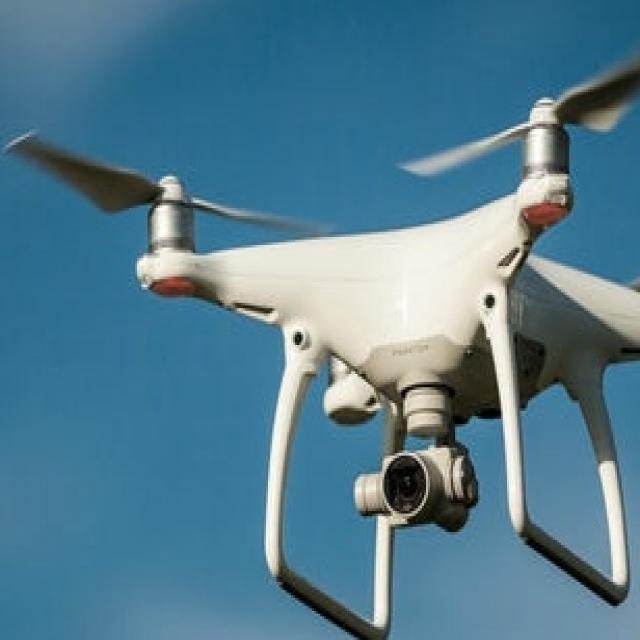drone: (0, 37, 640, 498)
